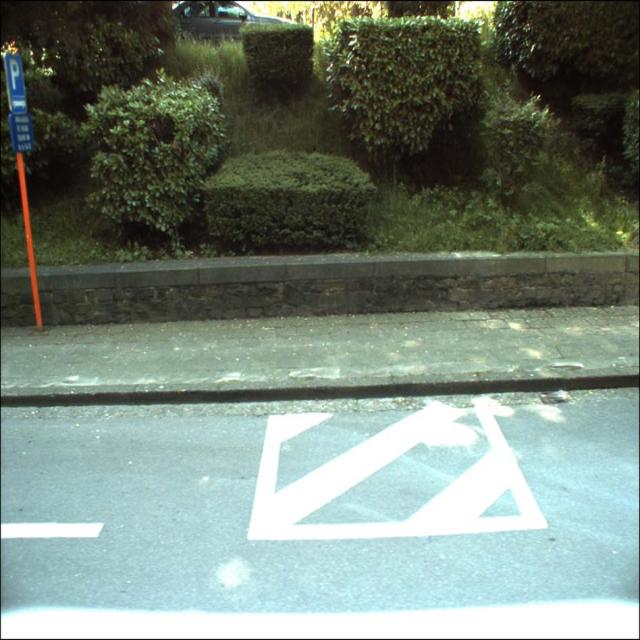park: (4, 52, 27, 97)
